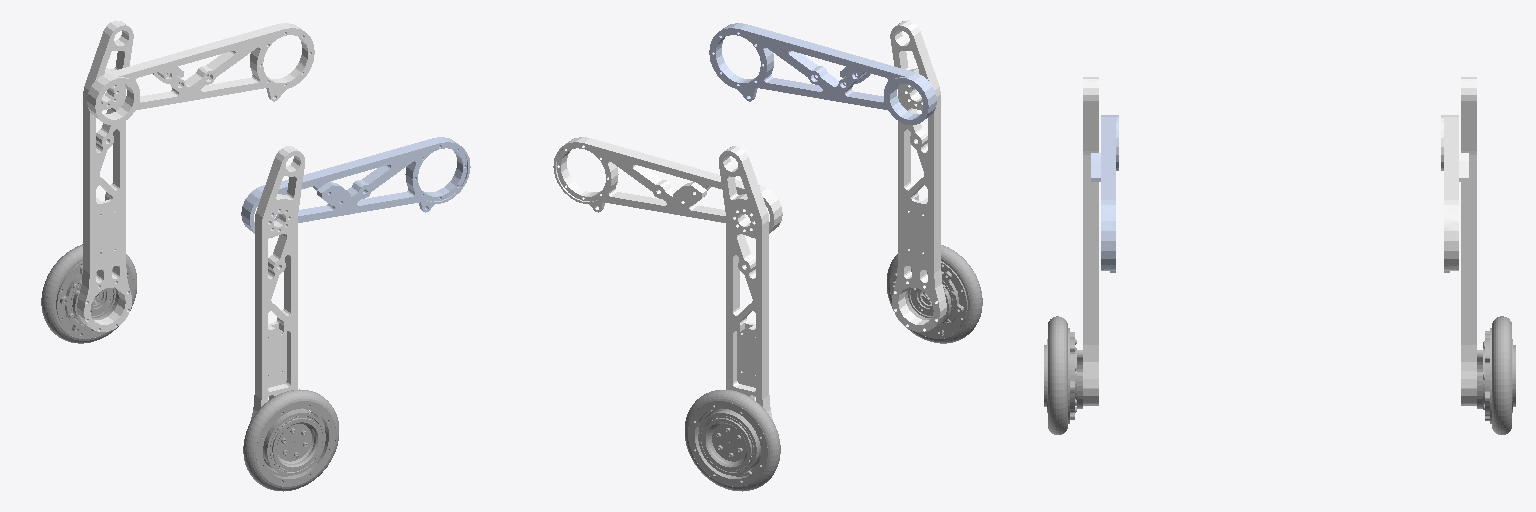
robot.urdf — wheel_legged_fyt_whole:
<?xml version="1.0" encoding="utf-8"?>
<!-- This URDF was automatically created by SolidWorks to URDF Exporter! Originally created by Stephen Brawner (brawner@gmail.com) 
     Commit Version: 1.6.0-4-g7f85cfe  Build Version: 1.6.7995.38578
     For more information, please see http://wiki.ros.org/sw_urdf_exporter -->
<robot
  name="wheel_legged_fyt_whole">
  <link
    name="base_link">
    <inertial>
      <origin
        xyz="-0.023107 -0.002215 0.138865"
        rpy="0 0 0" />
      <mass
        value="18.0" />
      <inertia
        ixx="0.344508"
        ixy="-0.005765"
        ixz="0.010273"
        iyy="0.440480"
        iyz="0.010141"
        izz="0.450556" />
    </inertial>
    <visual>
      <origin
        xyz="0 0 0"
        rpy="0 0 0" />
      <geometry>
        <mesh
          filename="../meshes/base_link.STL" />
      </geometry>
      <material
        name="">
        <color
          rgba="0.75294 0.75294 0.75294 1" />
      </material>
    </visual>
    <collision>
      <origin
        xyz="0 0 0"
        rpy="0 0 0" />
      <geometry>
        <mesh
          filename="../meshes/base_link.STL" />
      </geometry>
    </collision>
  </link>
  <link
    name="left_thigh_link">
    <inertial>
      <origin
        xyz="-0.101619 -0.003797 0.001285"
        rpy="0 0 0" />
      <mass
        value="0.32" />
      <inertia
        ixx="0.000130"
        ixy="-0.000008"
        ixz="0.000003"
        iyy="0.001597"
        iyz="0.000002"
        izz="0.001710" />
    </inertial>
    <visual>
      <origin
        xyz="0 0 0"
        rpy="0 0 0" />
      <geometry>
        <mesh
          filename="../meshes/left_thigh_link.STL" />
      </geometry>
      <material
        name="">
        <color
          rgba="1 1 1 1" />
      </material>
    </visual>
    <collision>
      <origin
        xyz="0 0 0"
        rpy="0 0 0" />
      <geometry>
        <mesh
          filename="../meshes/left_thigh_link.STL" />
      </geometry>
    </collision>
  </link>
  <joint
    name="left_thigh_joint"
    type="revolute">
    <origin
      xyz="0 0.1659 0.11588"
      rpy="-1.5708 0 0" />
    <parent
      link="base_link" />
    <child
      link="left_thigh_link" />
    <axis
      xyz="0 0 1" />
    <limit
      lower="-3.14"
      upper="3.14"
      effort="30"
      velocity="1000" />
  </joint>
  <link
    name="left_leg_link">
    <inertial>
      <origin
        xyz="0.001518 0.102070 -0.000358"
        rpy="0 0 0" />
      <mass
        value="0.3" />
      <inertia
        ixx="0.002686"
        ixy="0.000065"
        ixz="-0.000000"
        iyy="0.000075"
        iyz="0.000006"
        izz="0.002751" />
    </inertial>
    <visual>
      <origin
        xyz="0 0 0"
        rpy="0 0 0" />
      <geometry>
        <mesh
          filename="../meshes/left_leg_link.STL" />
      </geometry>
      <material
        name="">
        <color
          rgba="1 1 1 1" />
      </material>
    </visual>
    <collision>
      <origin
        xyz="0 0 0"
        rpy="0 0 0" />
      <geometry>
        <mesh
          filename="../meshes/left_leg_link.STL" />
      </geometry>
    </collision>
  </link>
  <joint
    name="left_leg_joint"
    type="revolute">
    <origin
      xyz="-0.21 0 0.018"
      rpy="0 0 0" />
    <parent
      link="left_thigh_link" />
    <child
      link="left_leg_link" />
    <axis
      xyz="0 0 1" />
    <limit
      lower="-1.2"
      upper="0.7"
      effort="30"
      velocity="1000" />
  </joint>
  <link
    name="left_wheel_link">
    <inertial>
      <origin
        xyz="0.000001 0.000189 0.012137"
        rpy="0 0 0" />
      <mass
        value="0.600" />
      <inertia
        ixx="0.000626"
        ixy="-0.000002"
        ixz="0.000000"
        iyy="0.000624"
        iyz="0.000002"
        izz="0.001191" />
    </inertial>
    <visual>
      <origin
        xyz="0 0 0"
        rpy="0 0 0" />
      <geometry>
        <mesh
          filename="../meshes/left_wheel_link.STL" />
      </geometry>
      <material
        name="">
        <color
          rgba="0.752941176470588 0.752941176470588 0.752941176470588 1" />
      </material>
    </visual>
    <collision>
      <origin
        xyz="0 0 0"
        rpy="0 0 0" />
      <geometry>
        <mesh
          filename="../meshes/left_wheel_link.STL" />
      </geometry>
    </collision>
  </link>
  <joint
    name="left_wheel_joint"
    type="revolute">
    <origin
      xyz="0 0.25 0.01875"
      rpy="0 0 0" />
    <parent
      link="left_leg_link" />
    <child
      link="left_wheel_link" />
    <axis
      xyz="0 0 1" />
    <limit
      effort="4.5"
      velocity="1000" />
  </joint>
  <link
    name="right_thigh_link">
    <inertial>
      <origin
        xyz="-0.101619 0.003797 0.001285"
        rpy="0 0 0" />
      <mass
        value="0.32" />
      <inertia
        ixx="0.000130"
        ixy="0.000008"
        ixz="0.000003"
        iyy="0.001597"
        iyz="-0.000002"
        izz="0.001710" />
    </inertial>
    <visual>
      <origin
        xyz="0 0 0"
        rpy="0 0 0" />
      <geometry>
        <mesh
          filename="../meshes/right_thigh_link.STL" />
      </geometry>
      <material
        name="">
        <color
          rgba="0.866666666666667 0.909803921568627 1 1" />
      </material>
    </visual>
    <collision>
      <origin
        xyz="0 0 0"
        rpy="0 0 0" />
      <geometry>
        <mesh
          filename="../meshes/right_thigh_link.STL" />
      </geometry>
    </collision>
  </link>
  <joint
    name="right_thigh_joint"
    type="revolute">
    <origin
      xyz="0 -0.1659 0.11588"
      rpy="1.5708 0 0" />
    <parent
      link="base_link" />
    <child
      link="right_thigh_link" />
    <axis
      xyz="0 0 1" />
    <limit
      lower="-3.14"
      upper="3.14"
      effort="30"
      velocity="1000" />
  </joint>
  <link
    name="right_leg_link">
    <inertial>
      <origin
        xyz="0.001518 -0.10207 -0.000358"
        rpy="0 0 0" />
      <mass
        value="0.3" />
      <inertia
        ixx="0.002686"
        ixy="-0.000065"
        ixz="-0.000000"
        iyy="0.000075"
        iyz="-0.000006"
        izz="0.002751" />
    </inertial>
    <visual>
      <origin
        xyz="0 0 0"
        rpy="0 0 0" />
      <geometry>
        <mesh
          filename="../meshes/right_leg_link.STL" />
      </geometry>
      <material
        name="">
        <color
          rgba="1 1 1 1" />
      </material>
    </visual>
    <collision>
      <origin
        xyz="0 0 0"
        rpy="0 0 0" />
      <geometry>
        <mesh
          filename="../meshes/right_leg_link.STL" />
      </geometry>
    </collision>
  </link>
  <joint
    name="right_leg_joint"
    type="revolute">
    <origin
      xyz="-0.21 0 0.018"
      rpy="0 0 0" />
    <parent
      link="right_thigh_link" />
    <child
      link="right_leg_link" />
    <axis
      xyz="0 0 1" />
    <limit
      lower="-0.7"
      upper="1.2"
      effort="30"
      velocity="1000" />
  </joint>
  <link
    name="right_wheel_link">
    <inertial>
      <origin
        xyz="-0.000001 -0.000189 0.012137"
        rpy="0 0 0" />
      <mass
        value="0.600" />
      <inertia
        ixx="0.000626"
        ixy="-0.000002"
        ixz="-0.0"
        iyy="0.000624"
        iyz="-0.000002"
        izz="0.001191" />
    </inertial>
    <visual>
      <origin
        xyz="0 0 0"
        rpy="0 0 0" />
      <geometry>
        <mesh
          filename="../meshes/right_wheel_link.STL" />
      </geometry>
      <material
        name="">
        <color
          rgba="0.752941176470588 0.752941176470588 0.752941176470588 1" />
      </material>
    </visual>
    <collision>
      <origin
        xyz="0 0 0"
        rpy="0 0 0" />
      <geometry>
        <mesh
          filename="../meshes/right_wheel_link.STL" />
      </geometry>
    </collision>
  </link>
  <joint
    name="right_wheel_joint"
    type="revolute">
    <origin
      xyz="0 -0.25 0.01875"
      rpy="0 0 0" />
    <parent
      link="right_leg_link" />
    <child
      link="right_wheel_link" />
    <axis
      xyz="0 0 1" />
    <limit
      effort="4.5"
      velocity="1000" />
  </joint>

</robot>

--- Facts derived from the render (not from the file) ---
Views: 3 orthographic renders of the robot side by side, from view 1: azimuth 30°, elevation 25°; view 2: azimuth 150°, elevation 25°; view 3: azimuth 270°, elevation 25°.
Robot: wheel_legged_fyt_whole — 7 links, 6 joints (6 revolute); root link base_link; default pose: every joint at zero.
Links seen in each view (by area): view 1: left_leg_link, right_leg_link, left_thigh_link, right_wheel_link, right_thigh_link, left_wheel_link; view 2: right_leg_link, left_leg_link, right_thigh_link, left_wheel_link, left_thigh_link, right_wheel_link; view 3: left_leg_link, right_leg_link, left_wheel_link, right_wheel_link, left_thigh_link, right_thigh_link.
Link boxes in pixels (x1=…): left_leg_link: x1=77, y1=20, x2=133, y2=331; right_leg_link: x1=250, y1=146, x2=304, y2=421; left_thigh_link: x1=87, y1=23, x2=314, y2=124; right_wheel_link: x1=243, y1=389, x2=338, y2=491; right_thigh_link: x1=241, y1=137, x2=470, y2=237; left_wheel_link: x1=41, y1=244, x2=136, y2=343; right_leg_link: x1=890, y1=20, x2=946, y2=331; left_leg_link: x1=719, y1=146, x2=772, y2=419; right_thigh_link: x1=709, y1=23, x2=936, y2=124; left_wheel_link: x1=685, y1=390, x2=780, y2=491; left_thigh_link: x1=553, y1=137, x2=782, y2=237; right_wheel_link: x1=887, y1=245, x2=982, y2=343; left_leg_link: x1=1461, y1=77, x2=1476, y2=405; right_leg_link: x1=1083, y1=77, x2=1098, y2=405; left_wheel_link: x1=1477, y1=316, x2=1515, y2=434; right_wheel_link: x1=1044, y1=316, x2=1082, y2=434; left_thigh_link: x1=1441, y1=115, x2=1468, y2=272; right_thigh_link: x1=1091, y1=115, x2=1118, y2=272.
Size in the robot's own frame: 0.3039 by 0.4588 by 0.3857 metres.
6 mesh visuals loaded from 7 distinct referenced files (6 binary STL); not drawn: 1 (reference not matched to a file when rendering).
